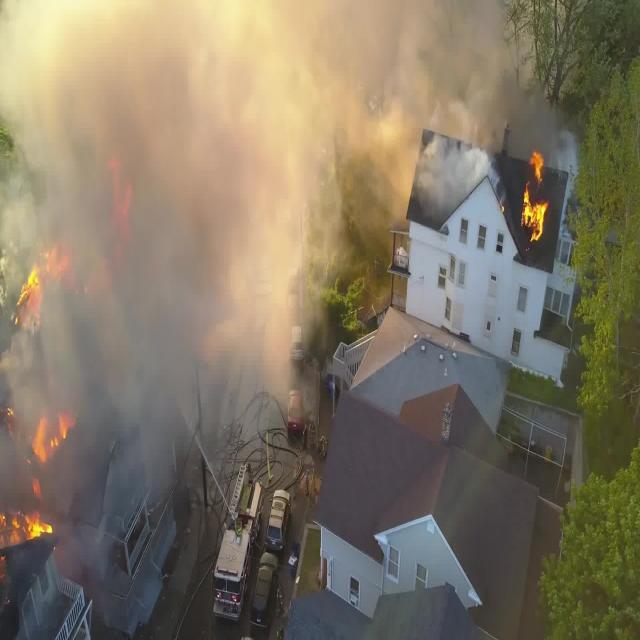Fire: (0, 504, 64, 546), (33, 416, 72, 465), (520, 150, 548, 208), (524, 202, 546, 240)
Smoke: (168, 64, 288, 397), (416, 98, 492, 212)
